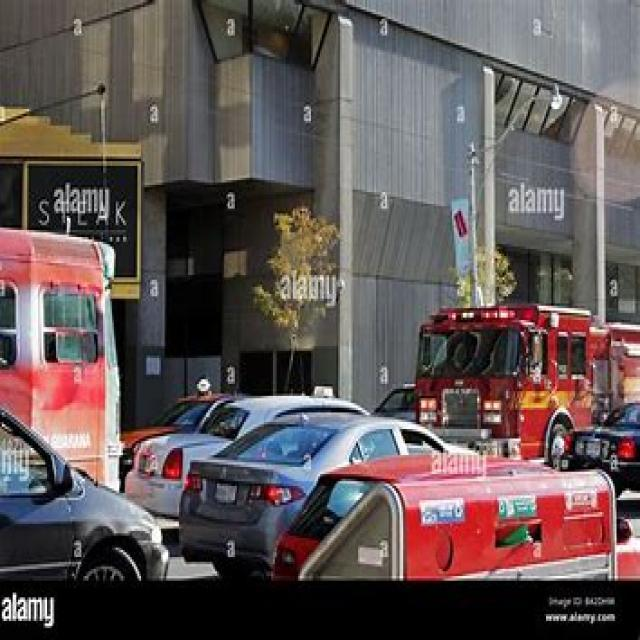Fire-engine: (412, 300, 638, 470), (0, 223, 121, 493)
